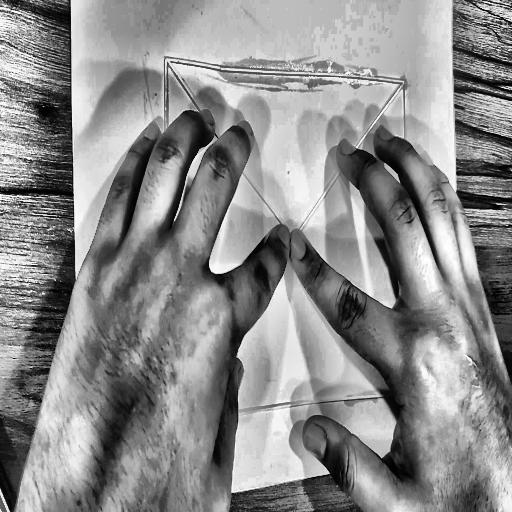bottom_right: (461, 432, 470, 446)
envelop: (161, 51, 418, 435)
